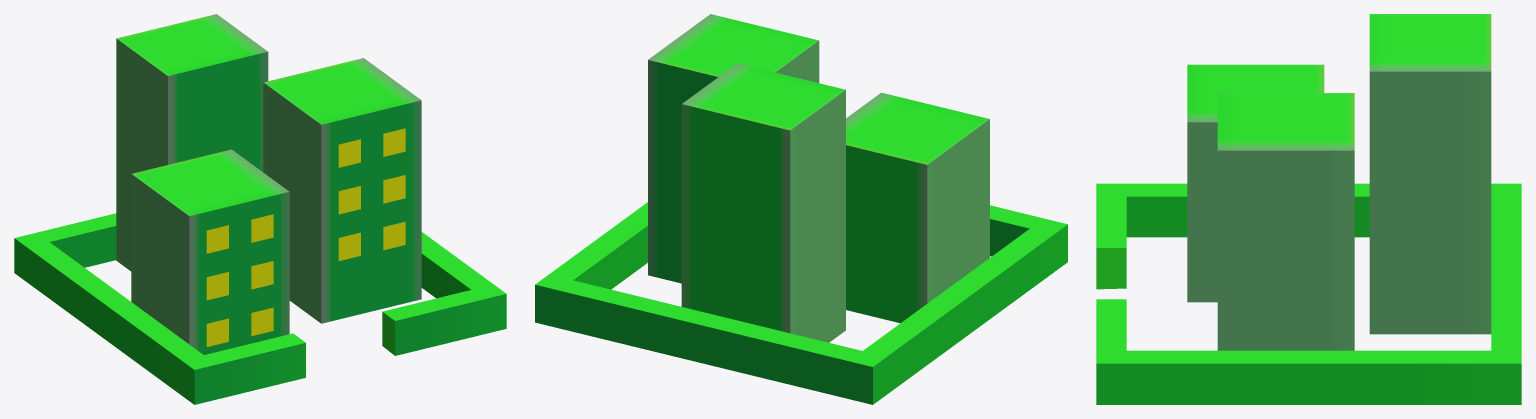
File: City.GreenEarth.glb
3 views of the same model, side by side, from view 1: azimuth 30°, elevation 25°; view 2: azimuth 150°, elevation 25°; view 3: azimuth 270°, elevation 25° (orthographic). The views are drawn at different scales.
Visible parts, largest first — view 1: City.GreenEarth; view 2: City.GreenEarth; view 3: City.GreenEarth.
Boxes of the visible parts, <box> form: City.GreenEarth: <box>14,14,506,404</box>; City.GreenEarth: <box>535,14,1067,404</box>; City.GreenEarth: <box>1096,14,1521,404</box>.
Bounding box in the file's own units: 2.8 × 1.91 × 2.8.
Materials: 2 (1 with a texture image).
